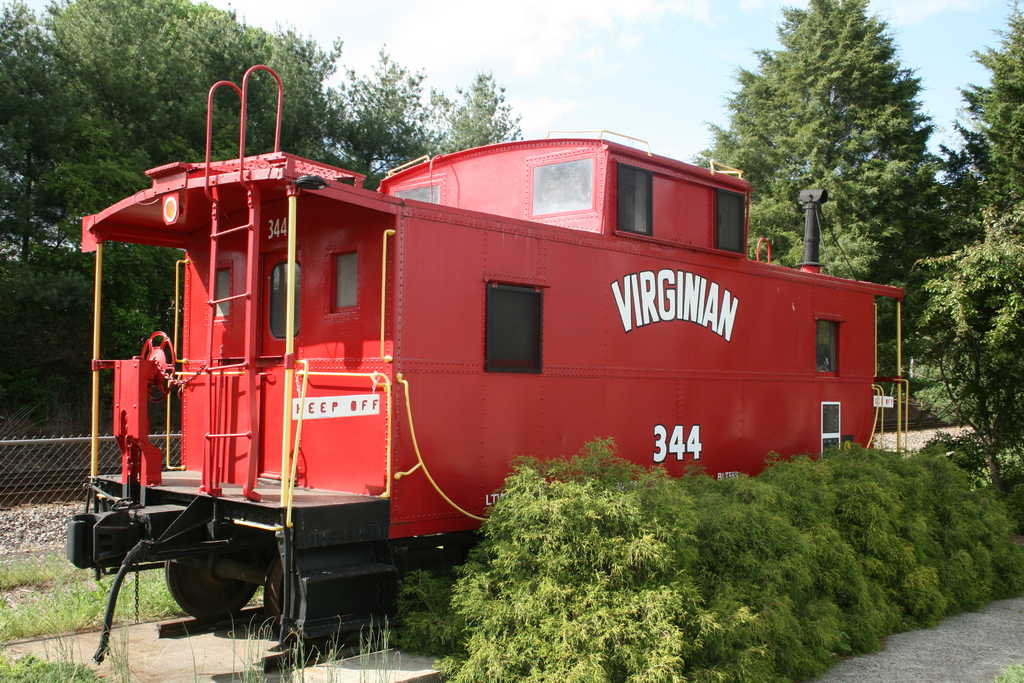Tree: (387, 439, 1003, 682), (0, 0, 288, 373), (699, 0, 939, 275), (297, 29, 533, 189), (906, 209, 1023, 490), (926, 0, 1023, 213)
